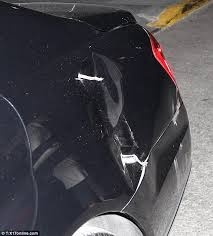Dent: (87, 52, 165, 185)
